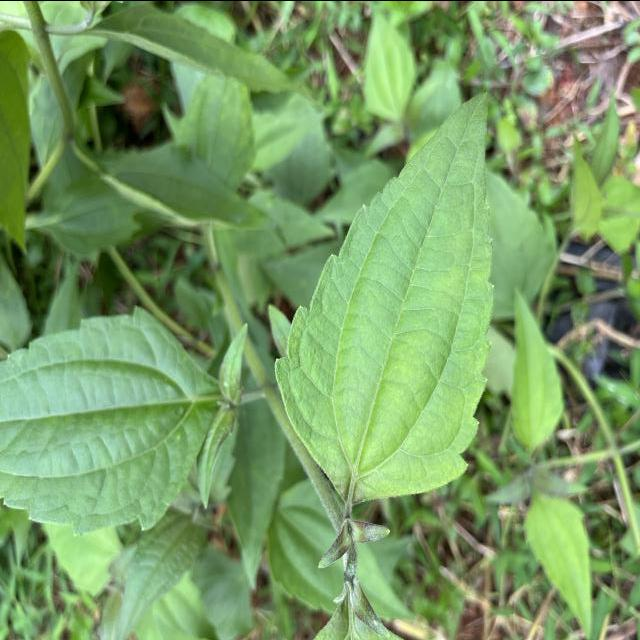Chromolaena odorata: (272, 88, 502, 508)
